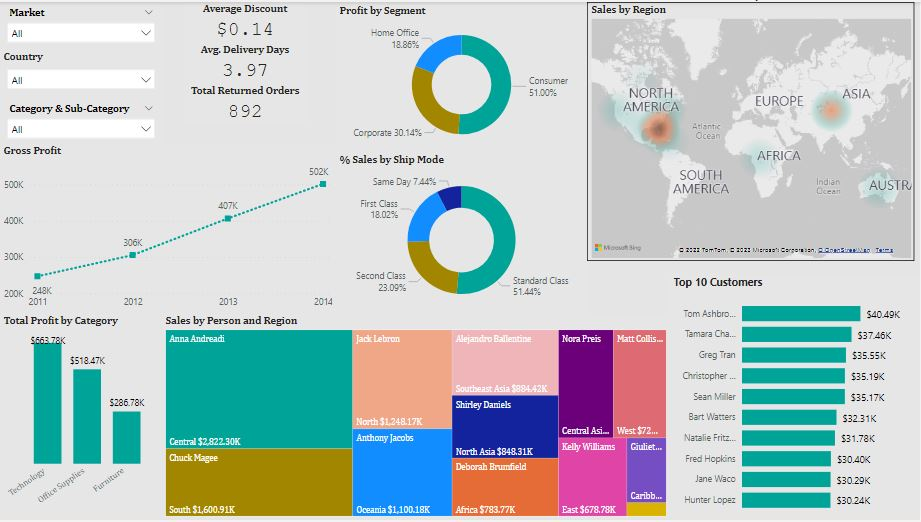

The page's visual inventory and layout, read from the dashboard file:
{"tool":"powerbi","page":{"name":"Sales Report","canvas":[1280,720],"ordinal":0},"visuals":[{"type":"columnChart","title":"Total Profit by Category","fields":{"Y":["Orders.profit"],"Category":["Orders.category"]},"box":[0,464.2,225.2,255.8],"z":0},{"type":"treemap","title":"Sales by Person and Region","fields":{"Group":["People.Person"],"Details":["People.Region"],"Values":["Orders.sales"]},"box":[225.2,464.2,706.1,255.8],"z":1000},{"type":"card","title":"Total Returned Orders","fields":{"Values":["Returns.Returned"]},"box":[233.5,58.4,169.6,57],"z":2000},{"type":"card","title":"Avg. Delivery Days","fields":{"Values":["Orders.# of days"]},"box":[394.7,1.4,169.6,57],"z":3000},{"type":"slicer","title":"Country","fields":{"Values":["Orders.country"]},"box":[0,98.7,225.2,66.7],"z":4000},{"type":"slicer","fields":{"Values":["Orders.market"]},"box":[0,23.6,225.2,66.7],"z":5000},{"type":"card","title":"Average Discount","fields":{"Values":["Orders.discount"]},"box":[225.2,1.4,169.6,57],"z":6000},{"type":"lineChart","title":"Gross Profit","fields":{"Category":["Orders.year"],"Y":["Orders.Gross Profit"]},"box":[0,268.3,467,196],"z":7000},{"type":"map","title":"Sales by Region","fields":{"Category":["People.Region","Orders.country"],"Size":["Orders.sales"]},"box":[882.6,0,387.8,360],"z":8000},{"type":"barChart","title":"Top 10 Customers","fields":{"Category":["Orders.customer_name"],"Y":["Orders.sales"]},"box":[931.3,378.1,348.9,341.9],"z":9000},{"type":"donutChart","title":"% Profit by Segment","fields":{"Category":["Orders.segment"],"Y":["Orders.profit"]},"box":[554.6,0,328,201.5],"z":10000},{"type":"donutChart","title":"% Sales by Ship Mode","fields":{"Category":["Orders.ship_mode"],"Y":["Orders.sales"]},"box":[554.6,239.1,328,201.5],"z":11000},{"type":"slicer","fields":{"Values":["Orders.category","Orders.sub_category"]},"box":[0,165.4,225.2,63.9],"z":12000},{"type":"card","title":"Average Shipping Cost","fields":{"Values":["Orders.shipping_cost"]},"box":[394.7,55.6,169.6,57],"z":13000},{"type":"card","title":"Total Sales","fields":{"Values":["Orders.sales"]},"box":[271,122.3,226.6,66.7],"z":13001},{"type":"card","title":"Total Profit","fields":{"Values":["Orders.profit"]},"box":[271,201.5,226.6,66.7],"z":13002}]}

Visuals, with their boxes in screenshot pixels (x1, y1, x2, y2), scaled from the page's 1280x720 canvas onto the 921x522 screenshot:
"Total Profit by Category" columnChart: 0/337/162/521
"Sales by Person and Region" treemap: 162/337/670/521
"Total Returned Orders" card: 168/42/290/84
"Avg. Delivery Days" card: 284/1/406/42
"Country" slicer: 0/72/162/120
slicer - Orders.market: 0/17/162/65
"Average Discount" card: 162/1/284/42
"Gross Profit" lineChart: 0/195/336/337
"Sales by Region" map: 635/0/914/261
"Top 10 Customers" barChart: 670/274/920/521
"% Profit by Segment" donutChart: 399/0/635/146
"% Sales by Ship Mode" donutChart: 399/173/635/319
slicer - Orders.category x Orders.sub_category: 0/120/162/166
"Average Shipping Cost" card: 284/40/406/82
"Total Sales" card: 195/89/358/137
"Total Profit" card: 195/146/358/194
